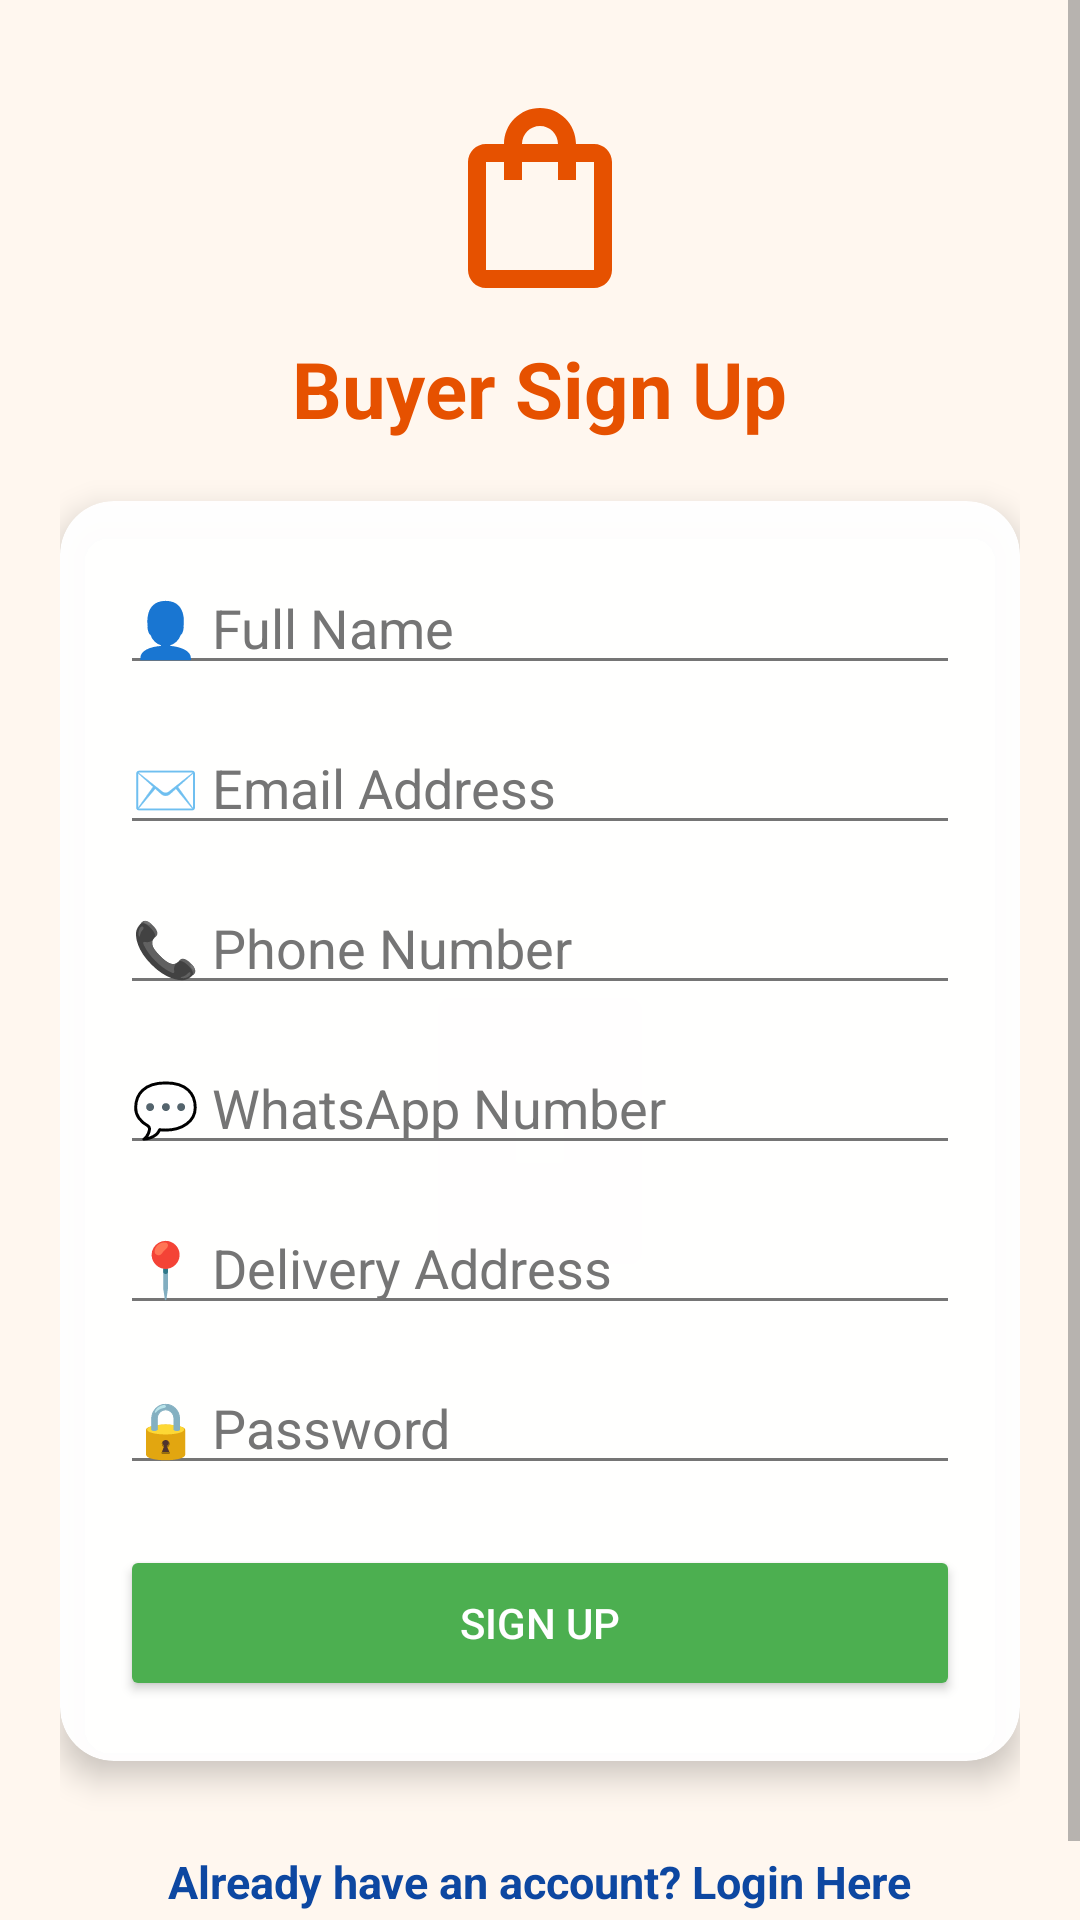

Named icons in this screenshot (1080*1920) and their bounding boxes, (x1, y1, x2, y2):
Buyer Header Icon: (468, 108, 612, 288)
